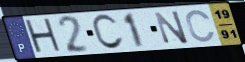1: (123, 11, 148, 50)
2: (58, 13, 92, 57)
C: (90, 13, 126, 52), (184, 8, 217, 44)
H: (23, 17, 65, 56)
N: (152, 9, 191, 45)
